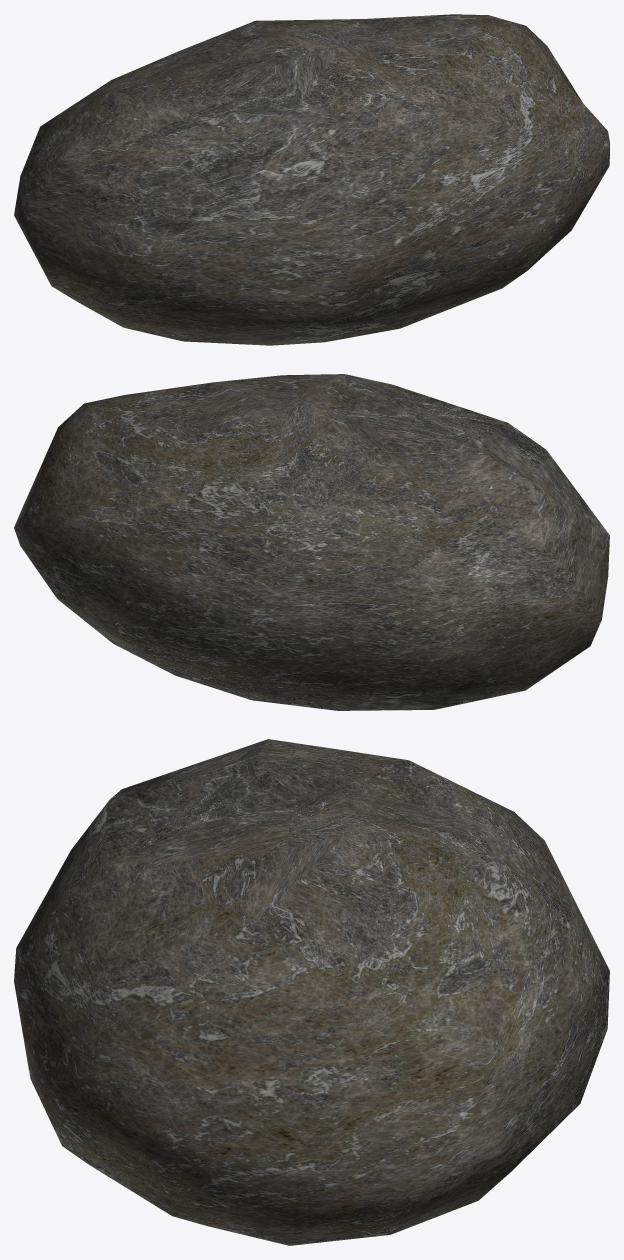
File: river_stone_LOD2.fbx
The picture shows the model from 3 angles, top to bottom: view 1: azimuth 30°, elevation 25°; view 2: azimuth 150°, elevation 25°; view 3: azimuth 270°, elevation 25°; orthographic projection. The views are drawn at different scales.
Visible parts, largest first — view 1: river_stone_LOD2; view 2: river_stone_LOD2; view 3: river_stone_LOD2.
Boxes of the visible parts, left/top/right/bottom form: river_stone_LOD2: left=14, top=14, right=609, bottom=345; river_stone_LOD2: left=14, top=374, right=609, bottom=710; river_stone_LOD2: left=14, top=739, right=609, bottom=1245.
Bounding box in the file's own units: 270 × 115 × 190.
